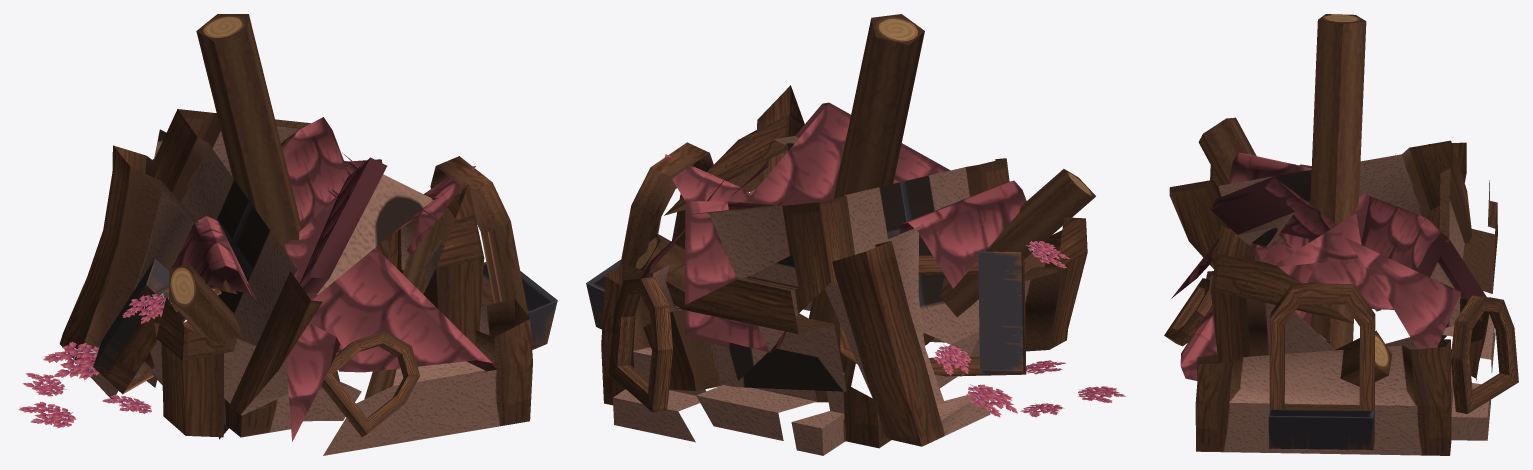
Rendered from House9Pile.fbx.
3 views of the same model, side by side, from view 1: azimuth 30°, elevation 25°; view 2: azimuth 150°, elevation 25°; view 3: azimuth 270°, elevation 25° (orthographic). The views are drawn at different scales.
Parts seen in each view (by area): view 1: Pile3; view 2: Pile3; view 3: Pile3.
Boxes of the visible parts, x1=… form: Pile3: x1=18, y1=14, x2=557, y2=455; Pile3: x1=586, y1=14, x2=1125, y2=455; Pile3: x1=1164, y1=14, x2=1518, y2=455.
Bounding box in the file's own units: 35.13 × 27.52 × 24.4.
